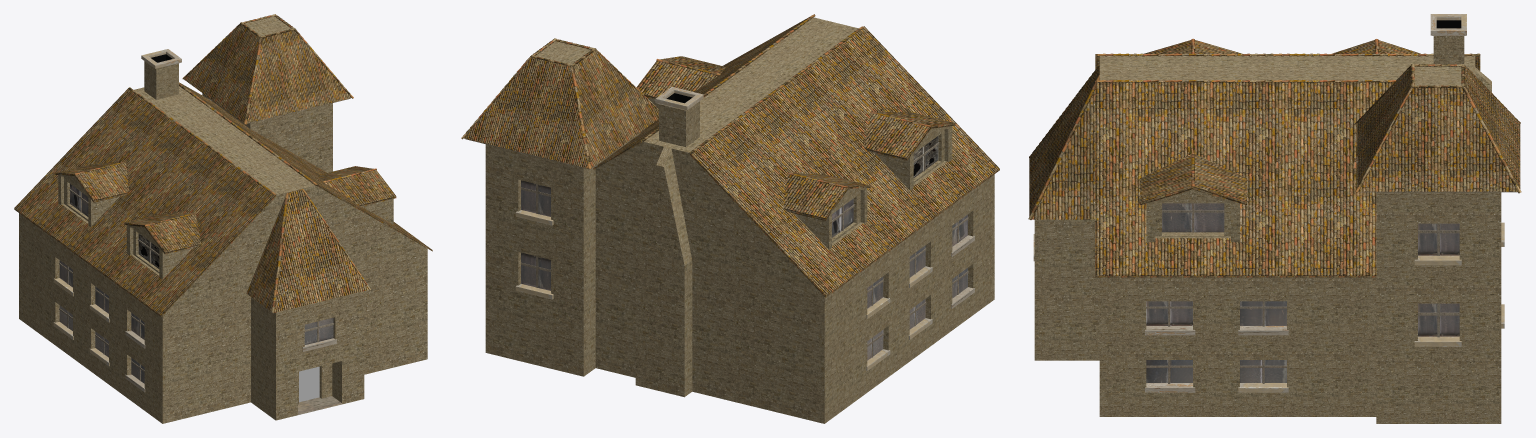
File: Mansionnnnn.fbx
The picture shows the model from 3 angles, left to right: view 1: azimuth 30°, elevation 25°; view 2: azimuth 150°, elevation 25°; view 3: azimuth 270°, elevation 25°; orthographic projection. The views are drawn at different scales.
Parts seen in each view (by area): view 1: Cube2; view 2: Cube2; view 3: Cube2.
Part boxes in pixels (x1,y1,x2,y2): Cube2: (14,14,432,423); Cube2: (461,14,999,423); Cube2: (1028,14,1521,423).
Size of the model in its own units: 11.05 by 8.89 by 12.32.
